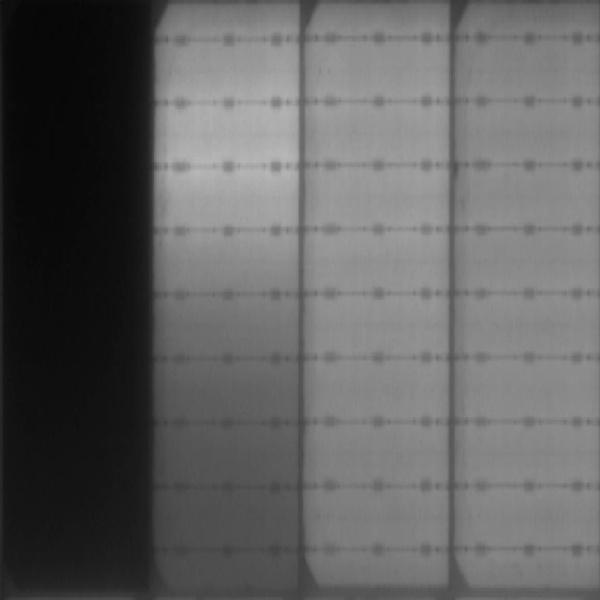no_electricity: (1, 3, 153, 587)
